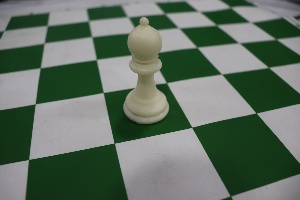white_bishop: (111, 3, 184, 134)
